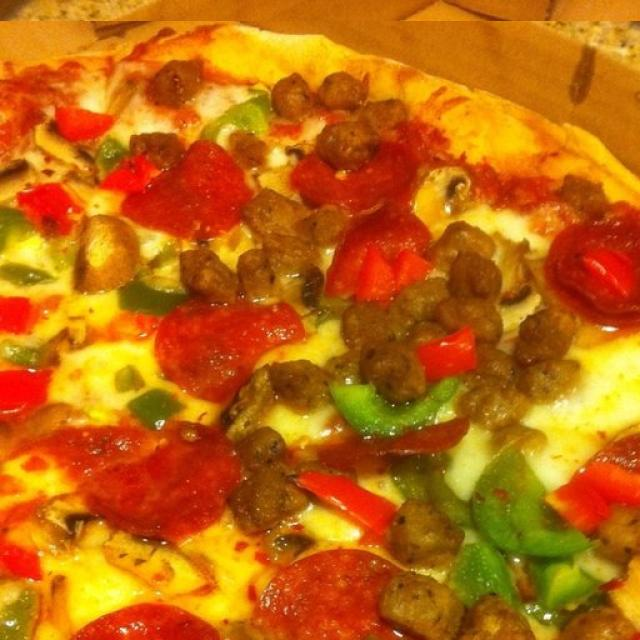pepperoni: (399, 421, 570, 542), (219, 549, 389, 640), (336, 300, 486, 402), (388, 139, 519, 238), (0, 207, 96, 331), (210, 210, 316, 302), (226, 139, 347, 211), (0, 431, 56, 474)
pizza: (0, 21, 640, 640)
